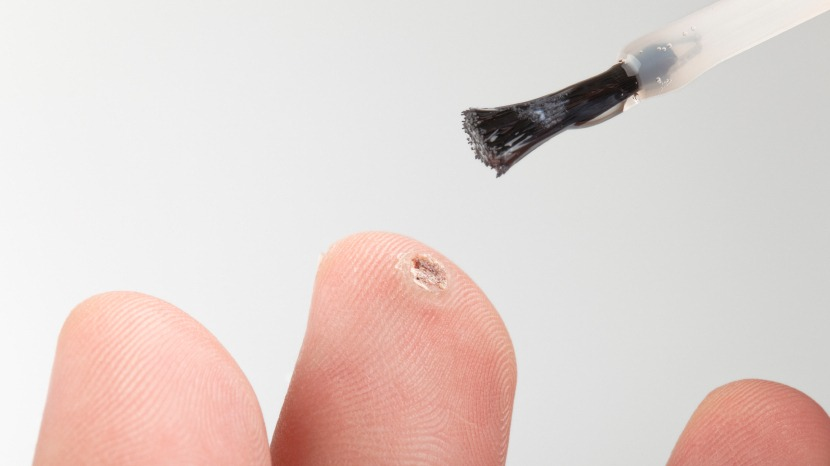Warts: (389, 240, 460, 312)
